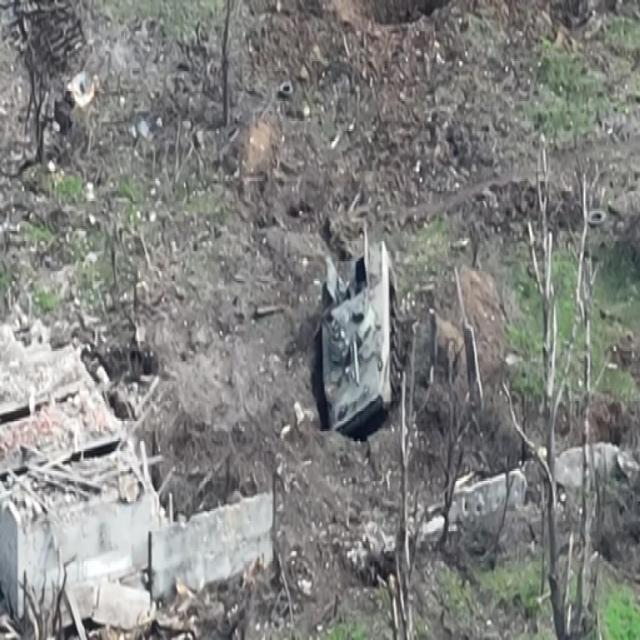APC-IFV: (314, 224, 406, 449)
